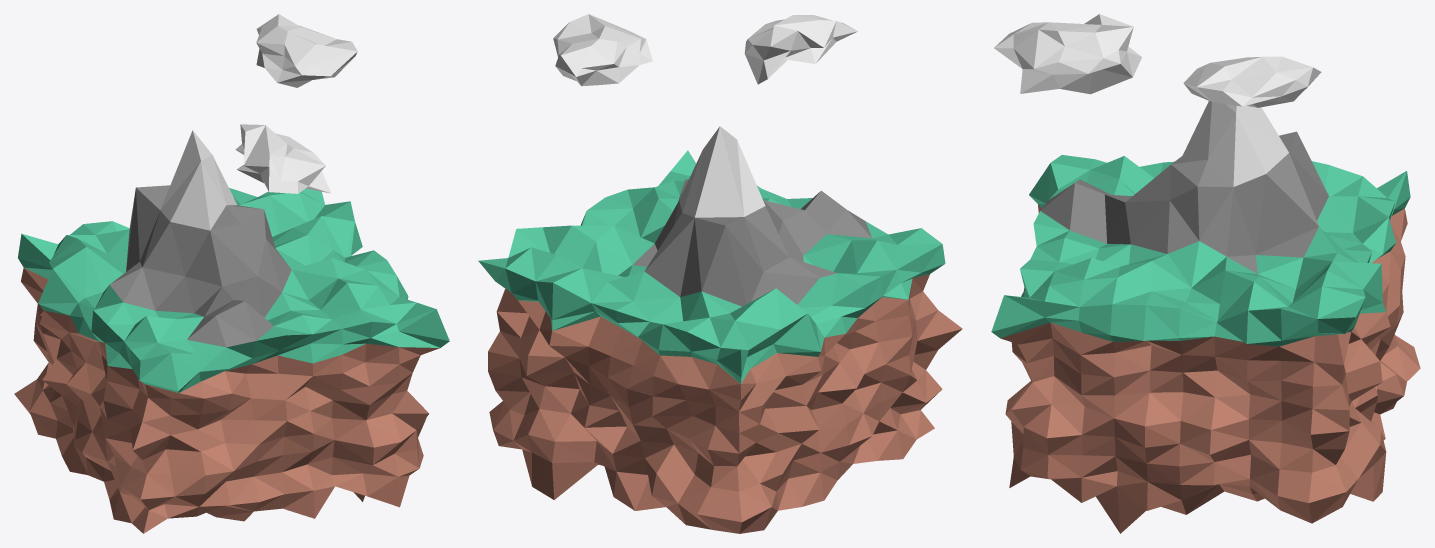
Rendered from mountain1.fbx.
3 views of the same model, side by side, from view 1: azimuth 30°, elevation 25°; view 2: azimuth 150°, elevation 25°; view 3: azimuth 270°, elevation 25° (orthographic). The views are drawn at different scales.
Visible parts, largest first — view 1: Cube, Icosphere; view 2: Cube, Icosphere; view 3: Cube, Icosphere.
Part boxes in pixels (box(x1,y1,x2,y2)): Cube: box(14, 130, 449, 533); Icosphere: box(235, 14, 357, 193); Cube: box(478, 126, 962, 533); Icosphere: box(553, 14, 857, 86); Cube: box(991, 101, 1420, 533); Icosphere: box(994, 14, 1321, 107).
Bounding box in the file's own units: 372 × 451 × 372.
